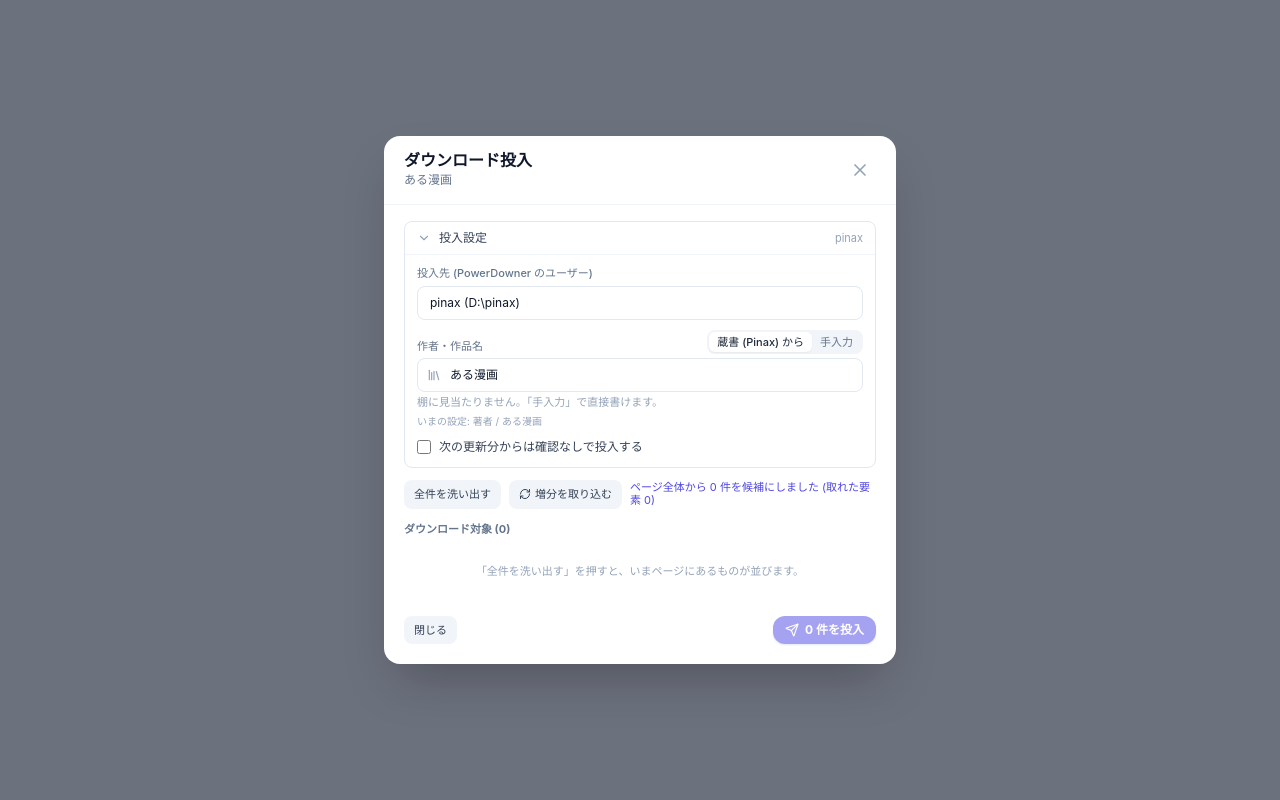
投入設定 › 作者・作品名は蔵書と手入力のどちらか一方だけを見せる
Check: the field with placeholder "作品名か作者名で探す" is shown, box [417, 358, 863, 392]
Click the tab "手入力" at (836, 342), box [812, 332, 861, 352]
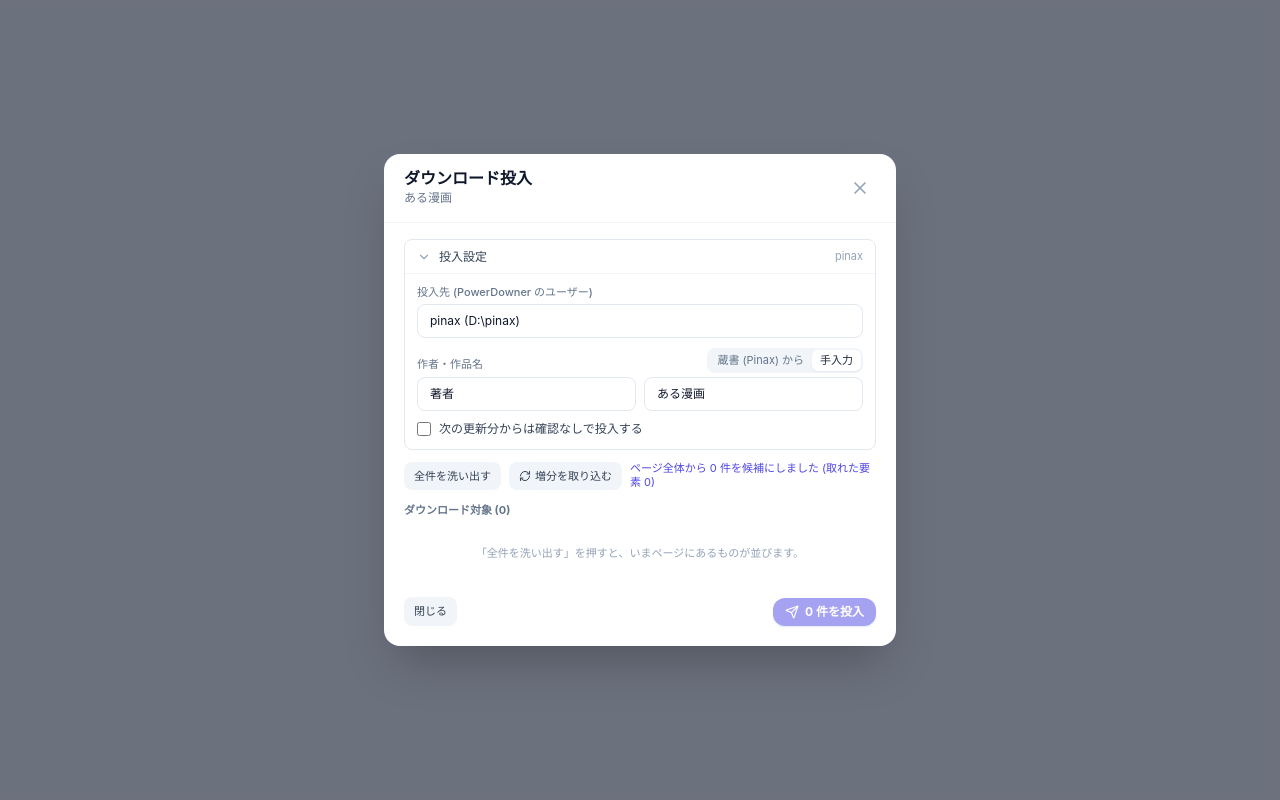
Check: the field named "作者" holds "著者", box [417, 377, 636, 411]
Check: the field with placeholder "作品名か作者名で探す" is gone
